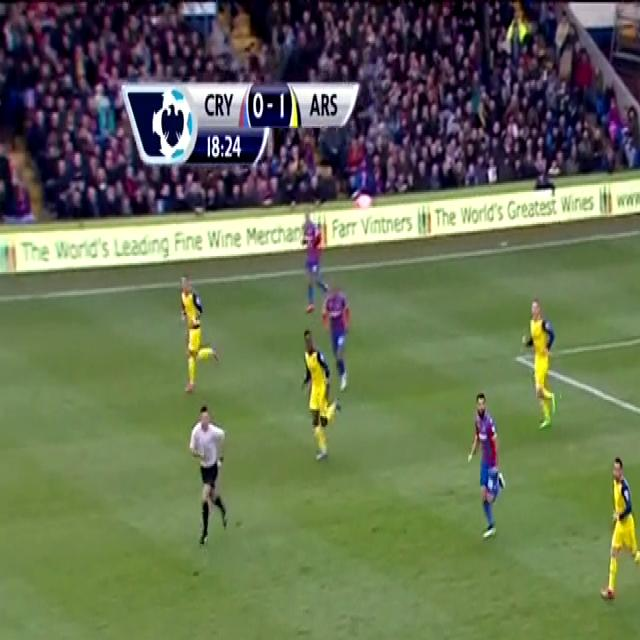referee: (174, 396, 239, 549)
soccer-player: (453, 387, 517, 545), (514, 296, 576, 443), (290, 331, 347, 473), (588, 455, 640, 610), (171, 272, 224, 398), (311, 278, 358, 386), (294, 208, 334, 316), (638, 386, 640, 560)
